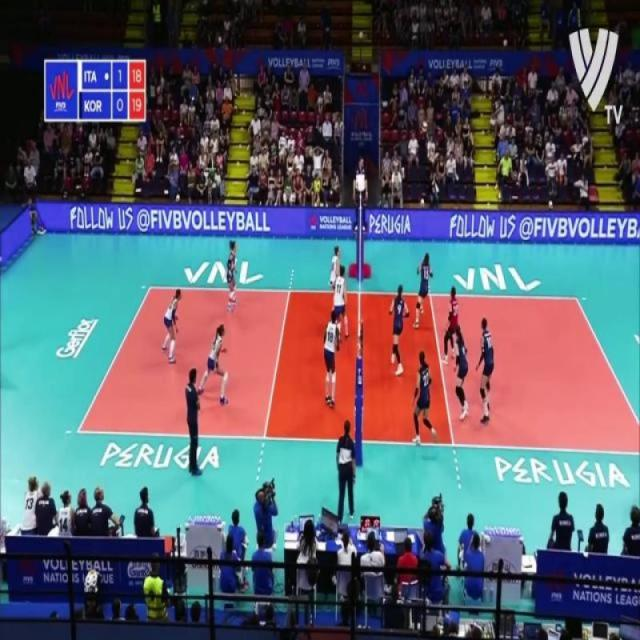volleyball: (422, 120, 428, 133)
